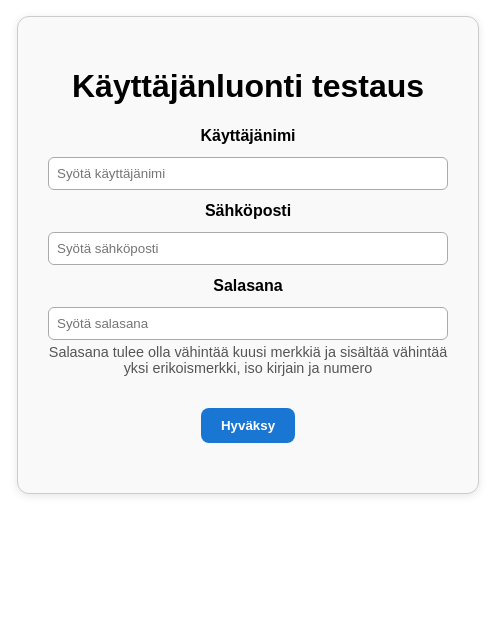
Test: Sähköpostin vahvuustesti › näyttää virheet ei hyväksytystä sähköpostista ja hyväksyy vahvan
The image size is (497, 638).
Käyttäjätunnuksen ja salasanan syöttö
Type "Kkonaukko666" into the field with placeholder "Syötä käyttäjänimi" at (248, 174), box [48,157,448,190]
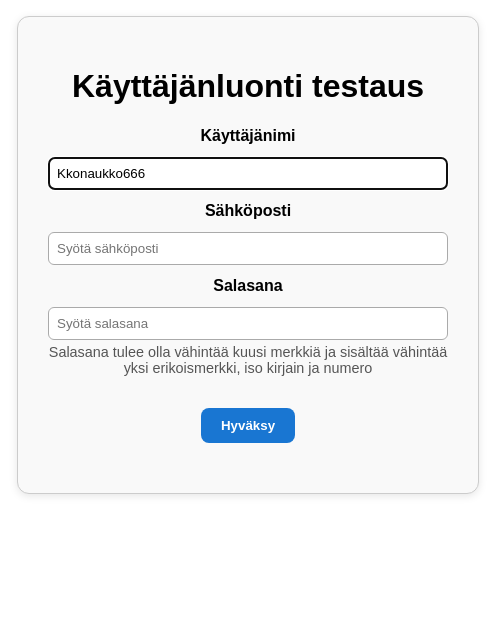
Type "J1234iiv!" into the password field with placeholder "Syötä salasana" at (248, 324), box [48,307,448,340]
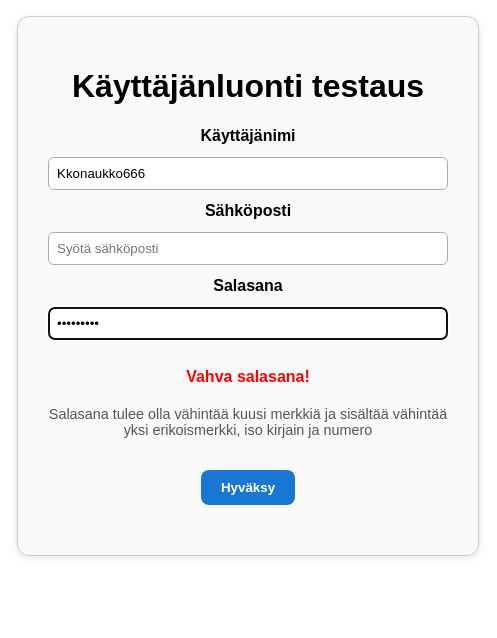
Syötetään muutama virheellinen sähköposti (Loppuosa ei kelpaa, pitää olla esim .com, .fi yms)
Type "ukkolainen@fdfd" into the field with placeholder "Syötä sähköposti" at (248, 249), box [48,232,448,265]
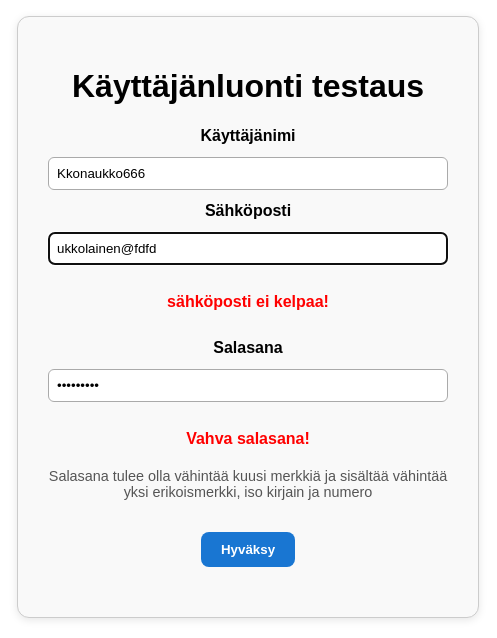
Expected: the text "sähköposti ei kelpaa!" is shown, [167,293,329,310]
Tyhjennetään kenttä ennen uutta syöttöä
Replace the text in the 2nd field with placeholder "Syötä sähköposti" with "ukkolainen.gmail.com" at (248, 249), box [48,232,448,265]
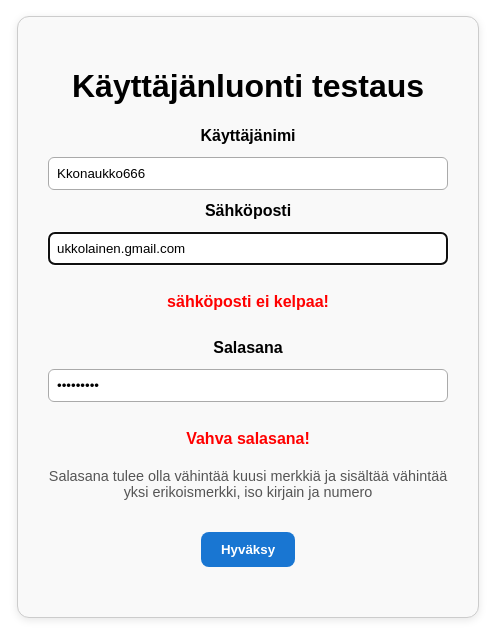
Expected: the text "sähköposti ei kelpaa!" is shown, [167,293,329,310]
Tyhjennetään kenttä ennen uutta syöttöä
Replace the text in the 2nd field with placeholder "Syötä sähköposti" with "ukkolainen@gmail.com" at (248, 249), box [48,232,448,265]
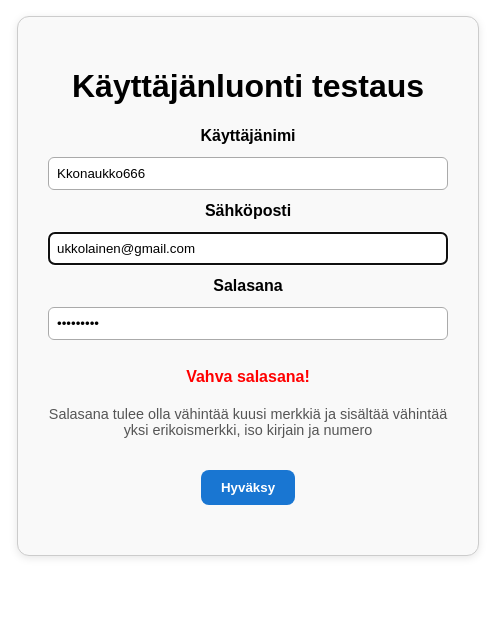
Expected: the text "Hyväksy" is enabled
Expected: the text "sähköposti ei kelpaa!" is gone
